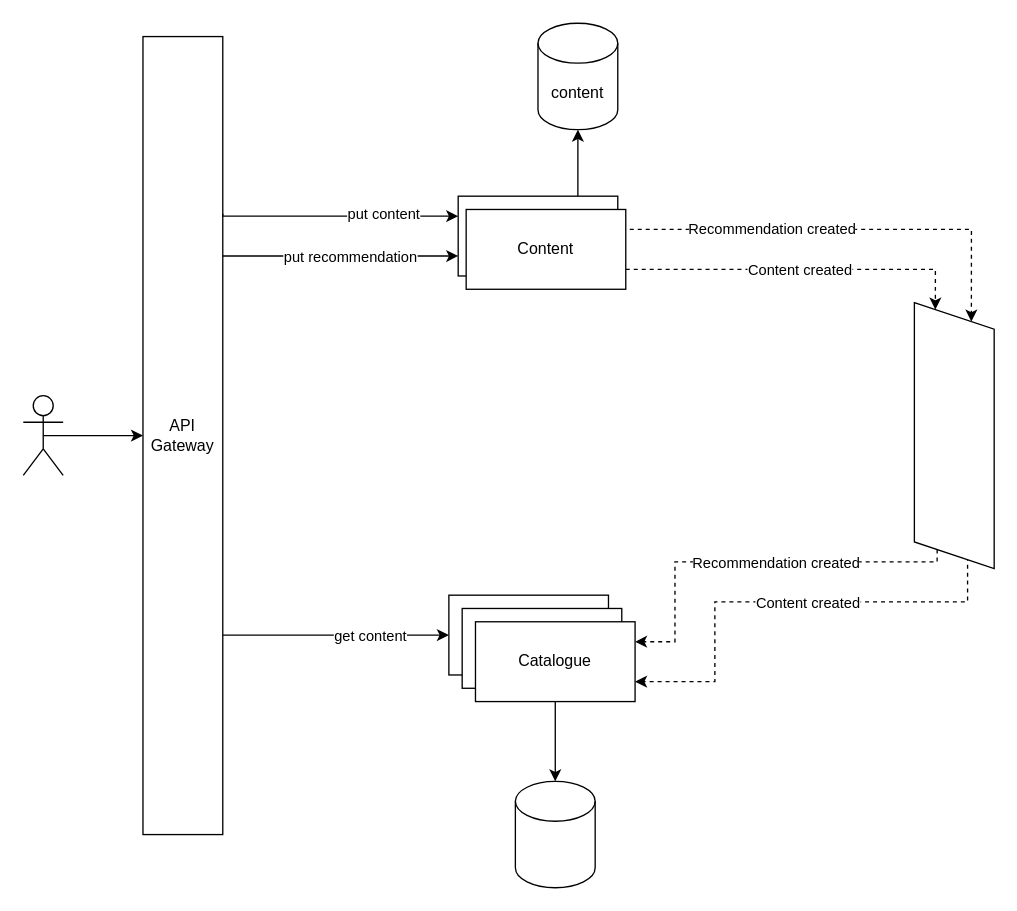
This 1017x911 diagram has some shape labels left out. Here are the shapes that lost their labels. From the top down, the box of each, then its label:
(22, 394, 63, 475): Actor
(913, 301, 994, 569): Queue
(514, 780, 595, 888): Content View
